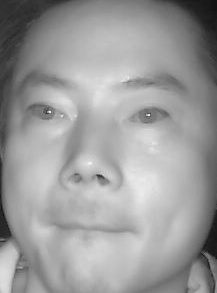eye: (26, 97, 74, 128), (125, 103, 173, 132)
mouth: (52, 208, 136, 250)
